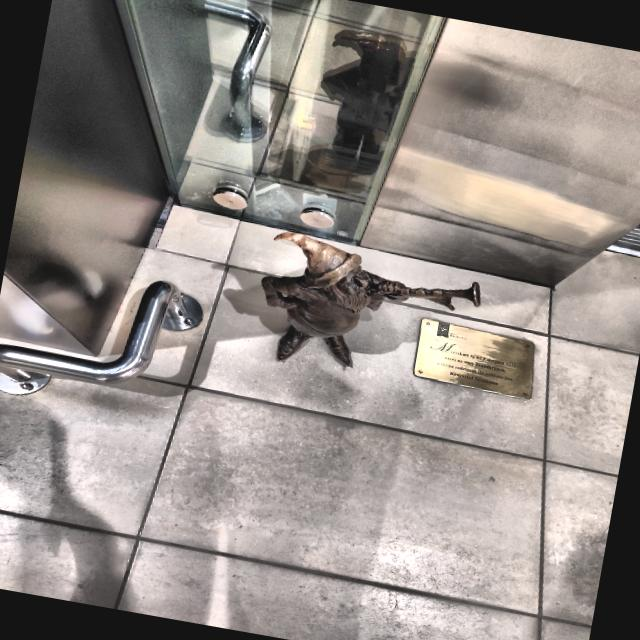Trabibrzuch: (260, 231, 480, 364)
